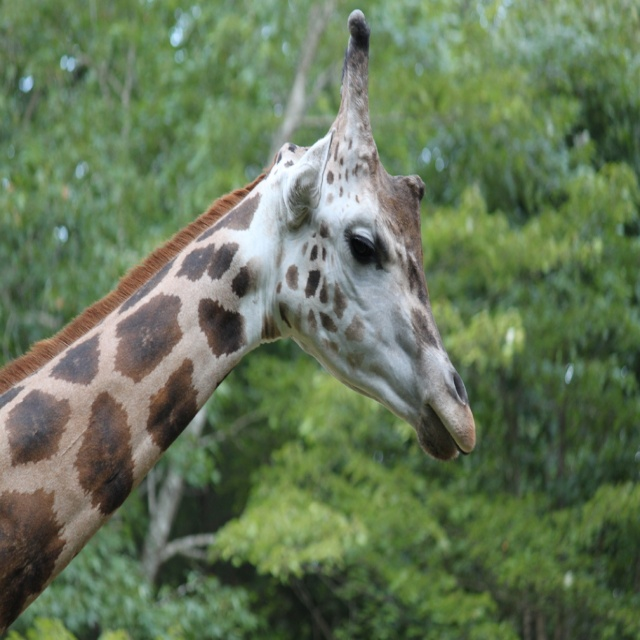Giraffe: (2, 17, 460, 620)
